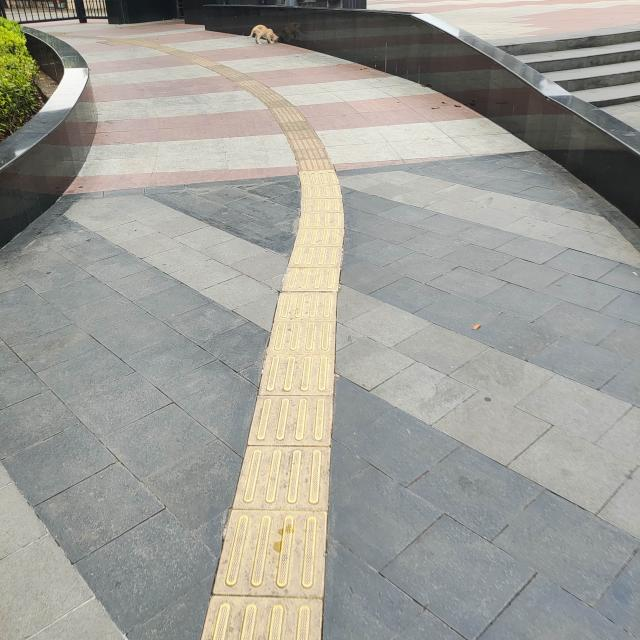lurus: (219, 184, 354, 640)
